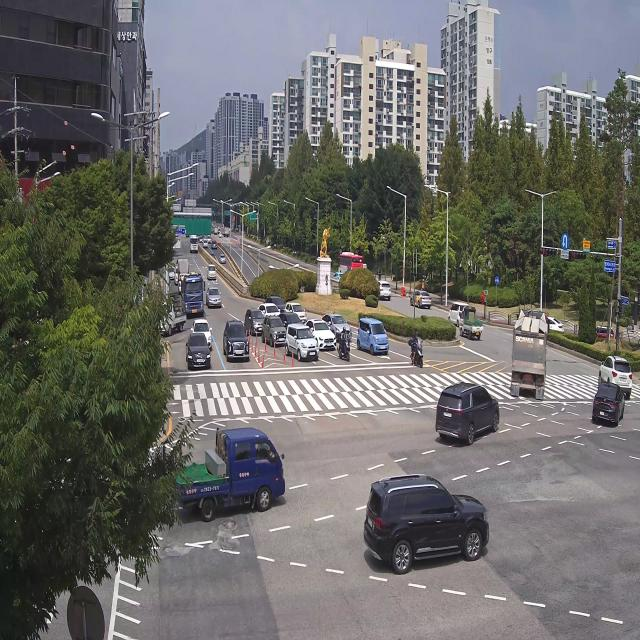Bus: (334, 250, 364, 284)
Car: (361, 462, 502, 580), (432, 375, 502, 452), (590, 377, 624, 436), (218, 315, 249, 367), (356, 312, 389, 358), (284, 324, 316, 366), (182, 331, 213, 373), (306, 318, 334, 352), (324, 309, 352, 341), (262, 314, 285, 350), (444, 298, 469, 330), (189, 316, 212, 348), (541, 308, 568, 333), (243, 308, 266, 337), (407, 287, 432, 312), (278, 310, 304, 334), (286, 299, 307, 324), (203, 284, 222, 311), (260, 299, 280, 322), (375, 279, 392, 304), (267, 291, 286, 313), (207, 261, 217, 282), (333, 270, 345, 284), (216, 251, 227, 265), (168, 261, 175, 282), (174, 262, 178, 285), (211, 240, 218, 250), (218, 229, 222, 238)
Motorcycle: (330, 322, 356, 364), (408, 326, 428, 373)
Truck: (161, 414, 296, 539), (509, 302, 552, 416), (154, 289, 186, 337), (457, 303, 485, 345), (180, 274, 205, 317), (177, 258, 190, 293), (189, 234, 197, 258), (224, 226, 230, 238), (202, 238, 208, 248), (207, 233, 212, 243), (213, 226, 218, 236)
